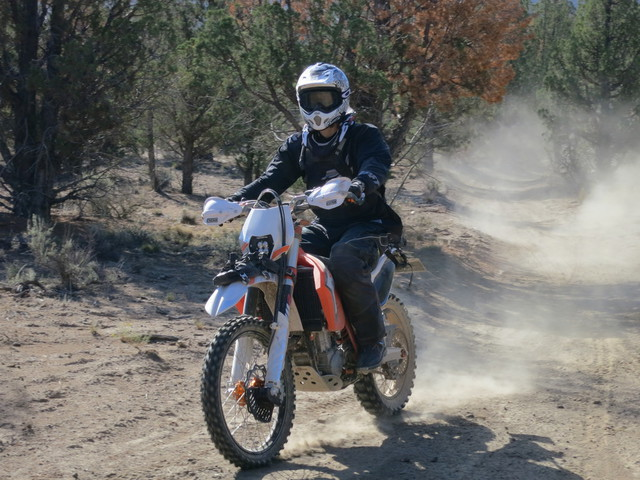helmet: (290, 70, 352, 134)
